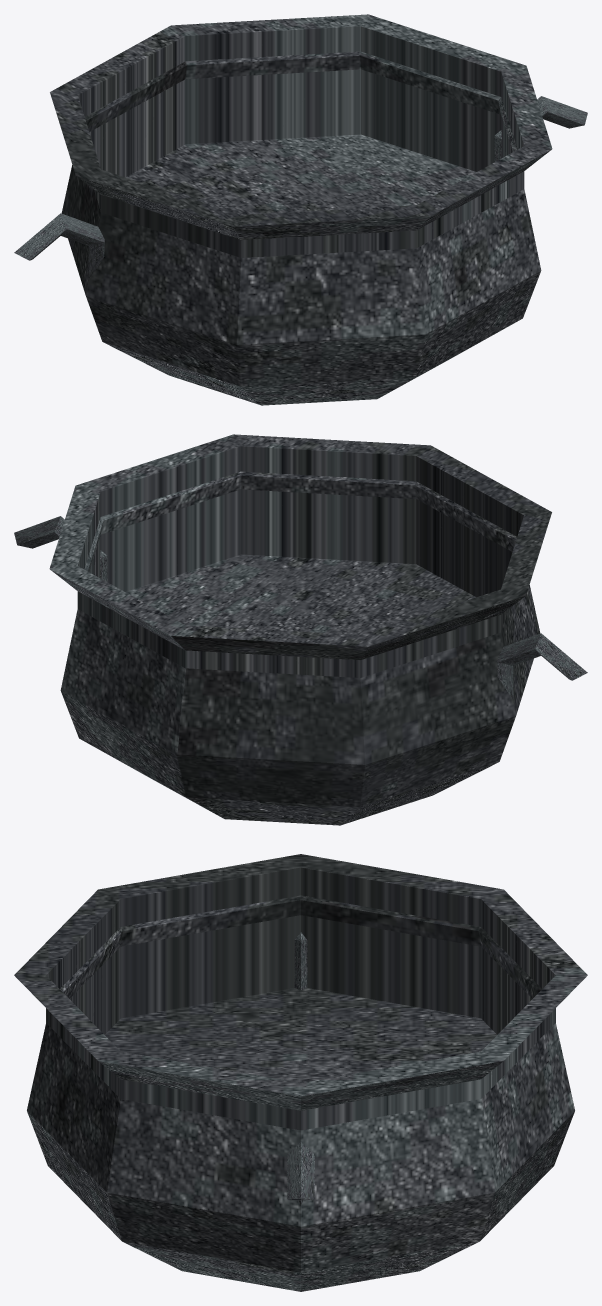
Rendered from cooking pot.fbx.
3 views of the same model, one above another, from view 1: azimuth 30°, elevation 25°; view 2: azimuth 150°, elevation 25°; view 3: azimuth 270°, elevation 25° (orthographic). The views are drawn at different scales.
Parts seen in each view (by area): view 1: Torus; view 2: Torus; view 3: Torus.
Part boxes in pixels (x1,y1,x2,y2): Torus: (14,14,587,405); Torus: (14,434,587,825); Torus: (14,854,587,1291).
Bounding box in the file's own units: 367 × 136 × 288.
